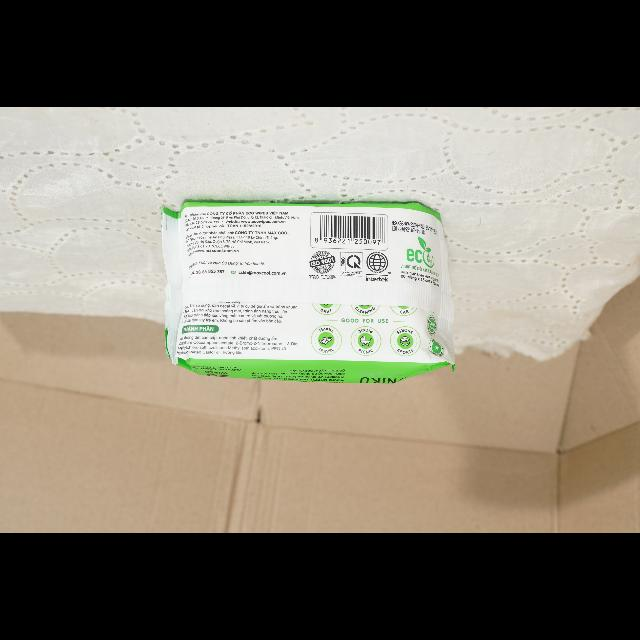khan_giay: (162, 202, 455, 383)
